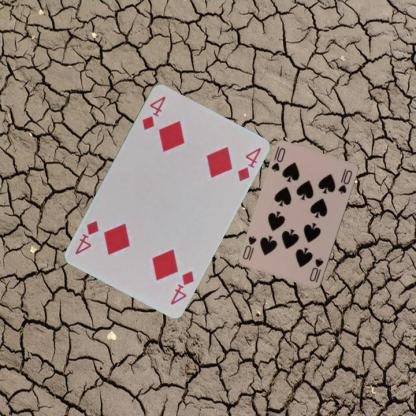10s: (268, 144, 286, 173), (307, 256, 325, 284)
4d: (139, 93, 167, 131), (168, 268, 195, 306)
